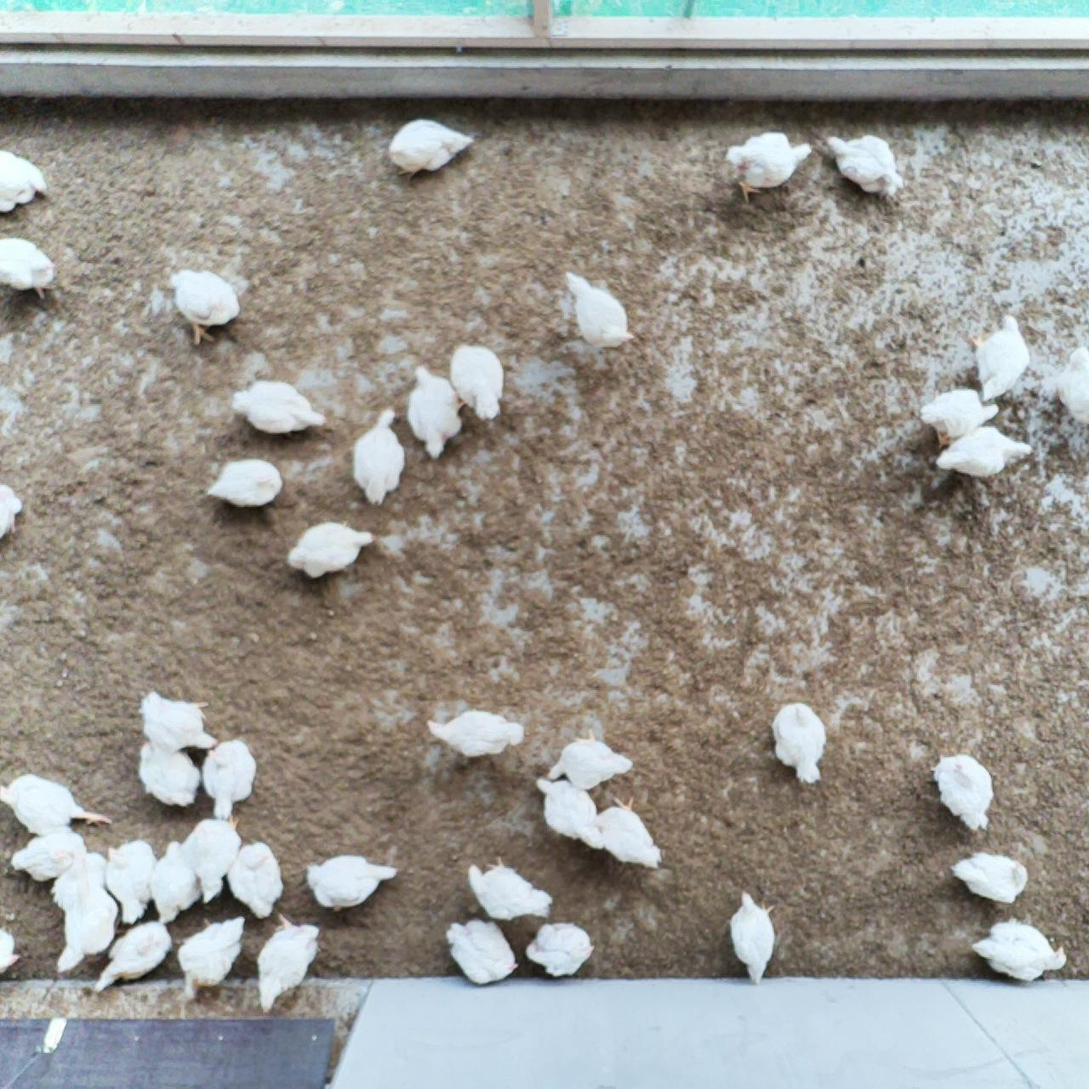chicken: (247, 904, 324, 1013), (0, 770, 109, 840), (171, 915, 246, 1006), (975, 921, 1072, 986), (724, 131, 817, 197), (171, 264, 244, 345), (91, 924, 173, 995), (353, 409, 411, 509), (303, 854, 398, 915), (969, 310, 1031, 402), (589, 797, 667, 869), (232, 377, 324, 438), (769, 698, 831, 788), (469, 854, 552, 921), (568, 273, 633, 357), (724, 894, 782, 988), (935, 426, 1034, 481), (138, 690, 222, 754), (408, 361, 462, 460), (53, 889, 114, 976), (288, 520, 376, 580), (825, 131, 907, 195), (427, 709, 526, 762), (451, 339, 512, 424), (187, 815, 247, 901), (544, 734, 632, 791), (931, 755, 996, 832), (389, 119, 475, 176), (446, 917, 519, 984), (536, 772, 602, 846), (918, 391, 1001, 448), (107, 834, 161, 921), (136, 739, 202, 810), (231, 841, 286, 922), (6, 834, 93, 885), (207, 735, 259, 820), (151, 838, 202, 924), (527, 921, 598, 981), (207, 458, 286, 509), (957, 852, 1029, 905), (0, 231, 56, 299), (47, 857, 110, 917), (0, 148, 49, 219), (1056, 348, 1089, 425), (0, 479, 29, 544), (0, 925, 29, 980)
